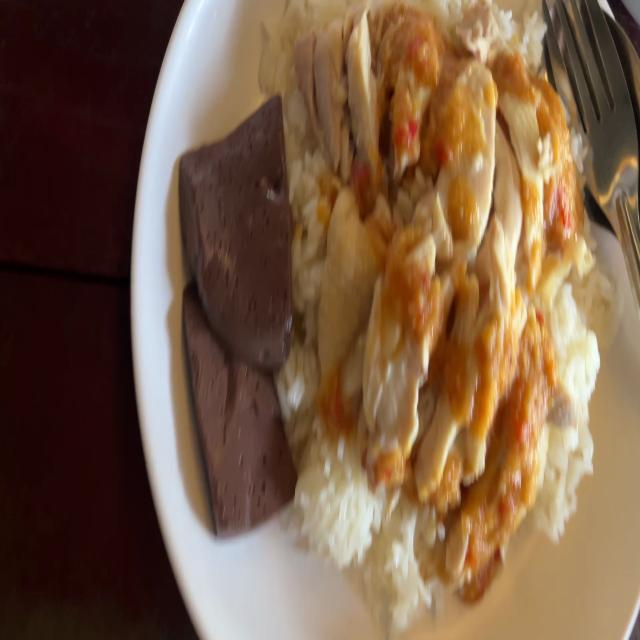boiled_chicken: (312, 31, 576, 518)
boiled_chicken_blood_jelly: (179, 96, 283, 365), (182, 297, 293, 522)
chicken_rice: (187, 0, 607, 592)
